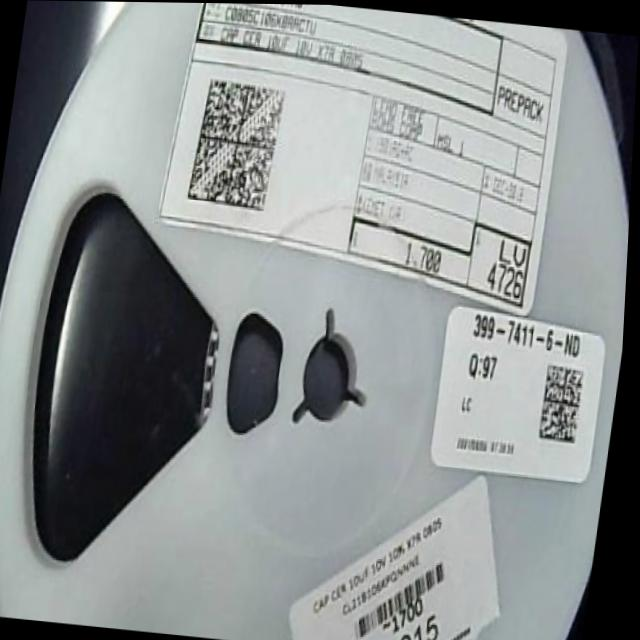datamatrix: (188, 74, 289, 214), (541, 359, 593, 445)
